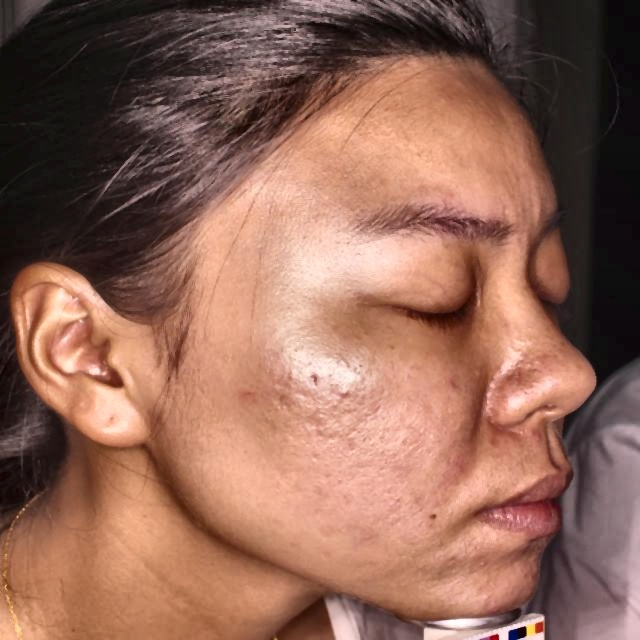comedone: (474, 586, 506, 608)
